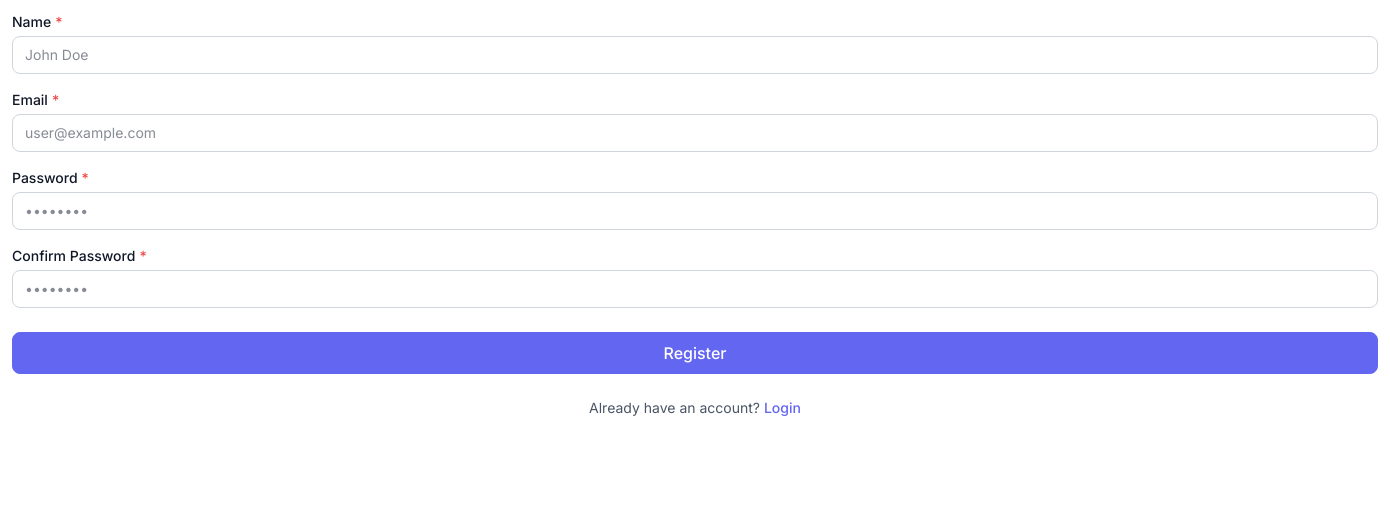
Test case: RegisterForm › shows error when email already exists
The width and height of the screenshot is (1390, 511).
Type "Another User" into the field with test id "register-name-input" at [695, 55], box [12,36,1378,74]
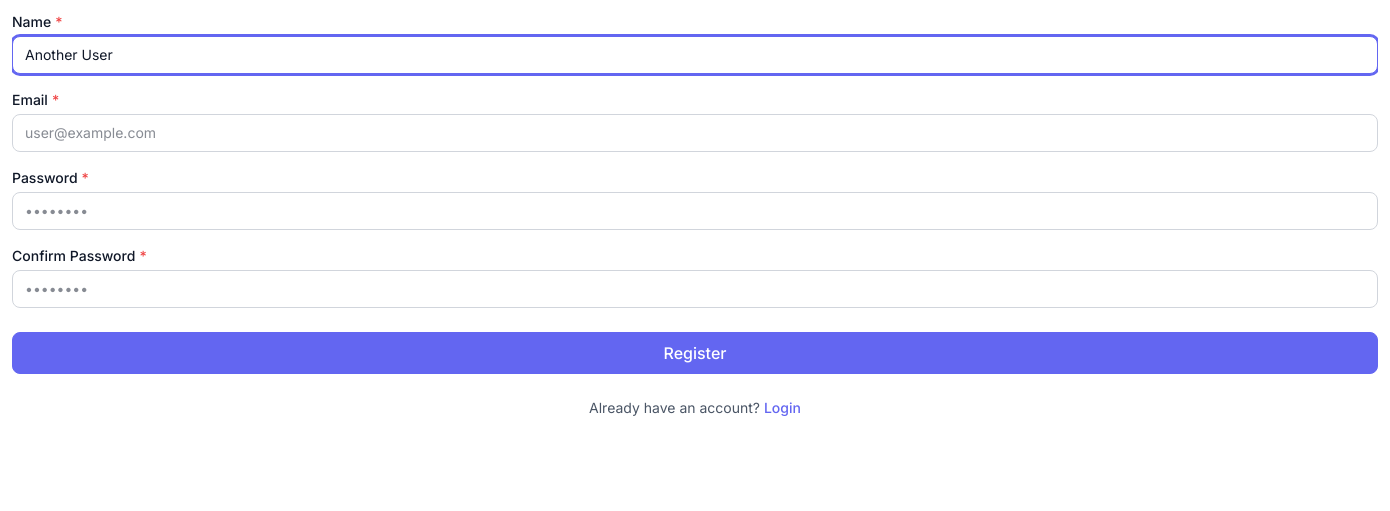
Type "existing@example.com" into the field with test id "register-email-input" at [695, 133], box [12,114,1378,152]
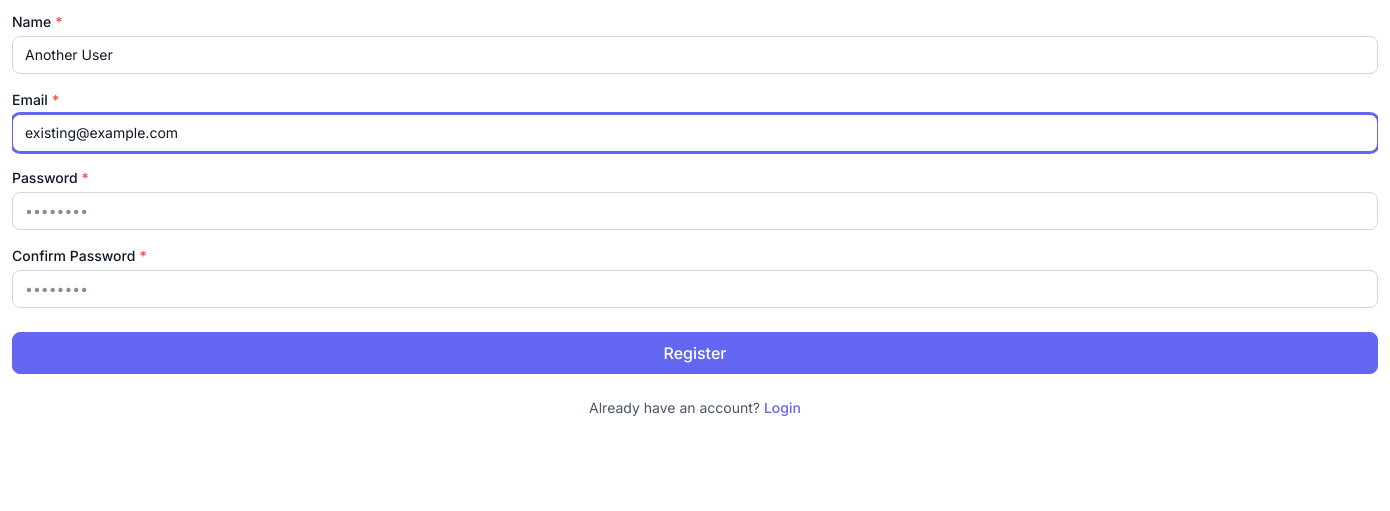
Type "123456" into the password field with test id "register-password-input" at [695, 211], box [12,192,1378,230]
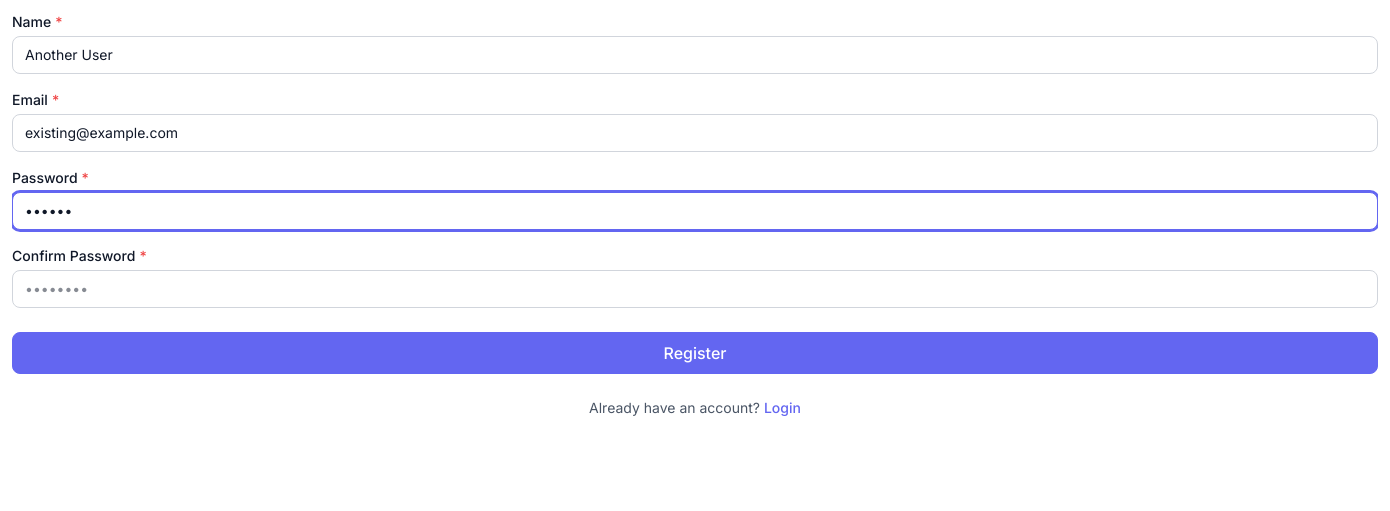
Type "123456" into the password field with test id "register-confirm-password-input" at [695, 289], box [12,270,1378,308]
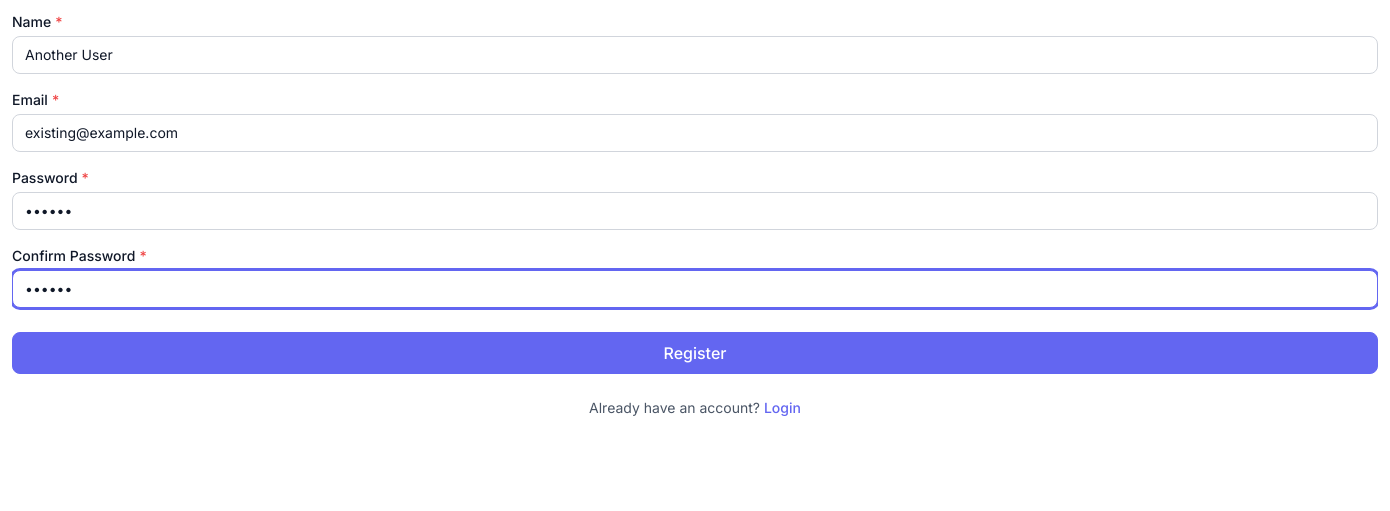
Click the button with test id "register-submit-btn" at [695, 353], box [12,332,1378,374]
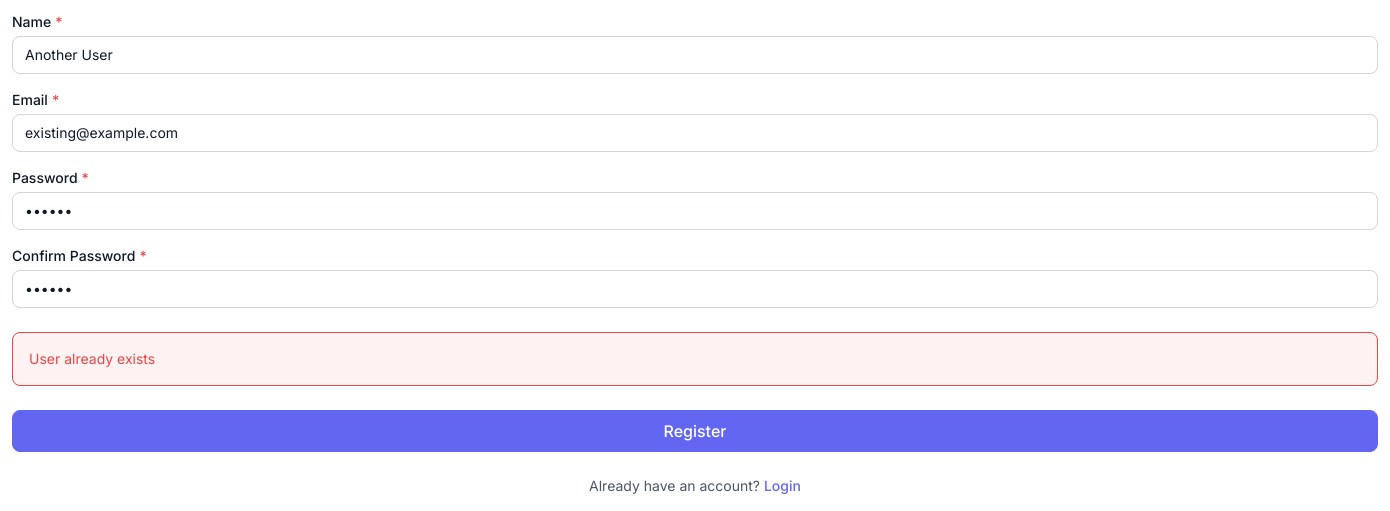
expect the text with test id "register-error" reads "User already exists": met, box [29,350,155,367]
